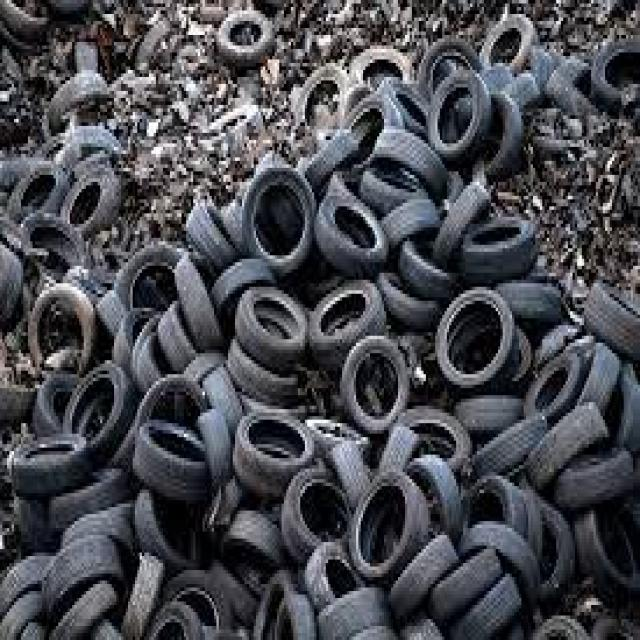Rubber -Non-Biodegradable but Recyclable-: (0, 0, 637, 633)
